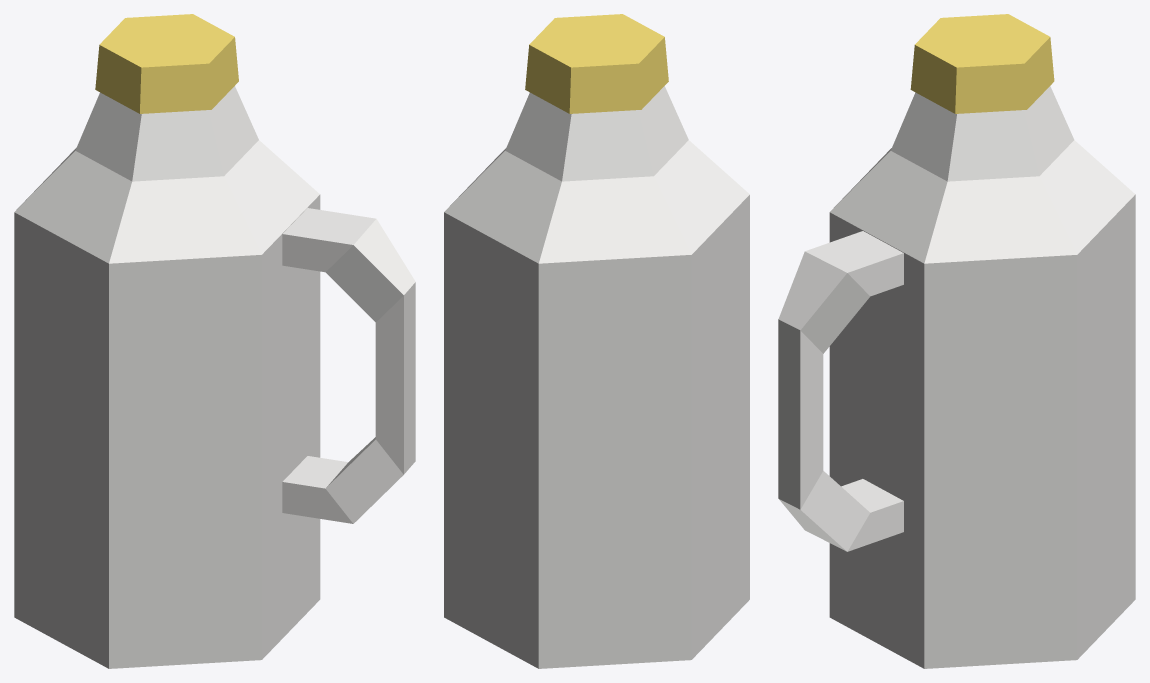
The model's file is Bottle_19.fbx.
The picture shows the model from 3 angles, left to right: view 1: azimuth 30°, elevation 25°; view 2: azimuth 150°, elevation 25°; view 3: azimuth 270°, elevation 25°; orthographic projection.
Visible parts, largest first — view 1: Bottle_19; view 2: Bottle_19; view 3: Bottle_19.
Boxes of the visible parts, x1,y1,x2,y2 form: Bottle_19: [14, 14, 415, 668]; Bottle_19: [444, 14, 749, 668]; Bottle_19: [778, 14, 1135, 668].
Size of the model in its own units: 12.94 by 14.23 by 24.96.
